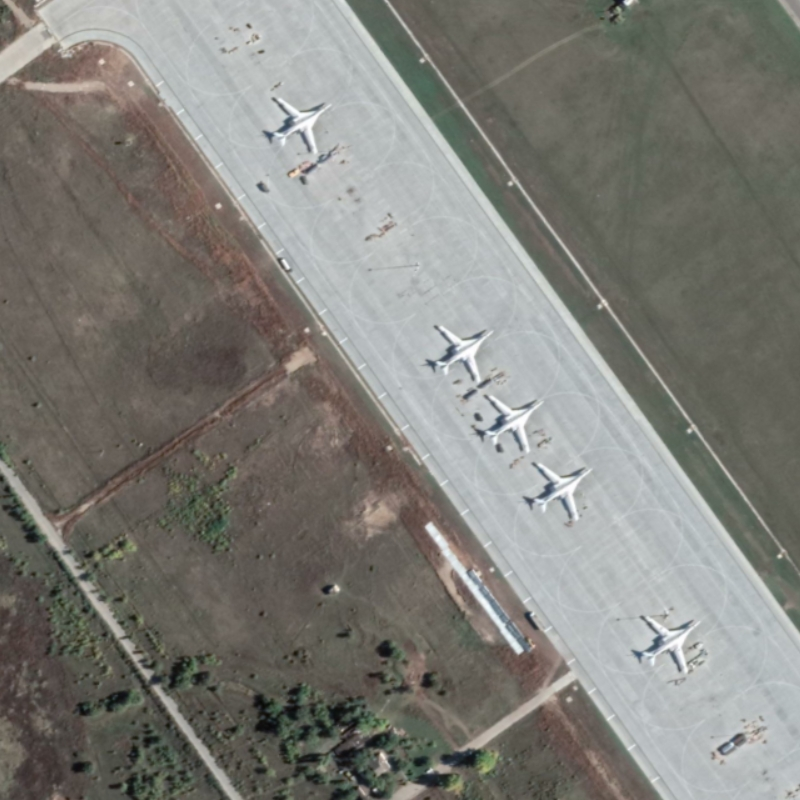A6: (429, 318, 497, 387), (637, 610, 704, 679), (268, 90, 334, 158), (480, 390, 544, 456), (531, 460, 595, 524)
